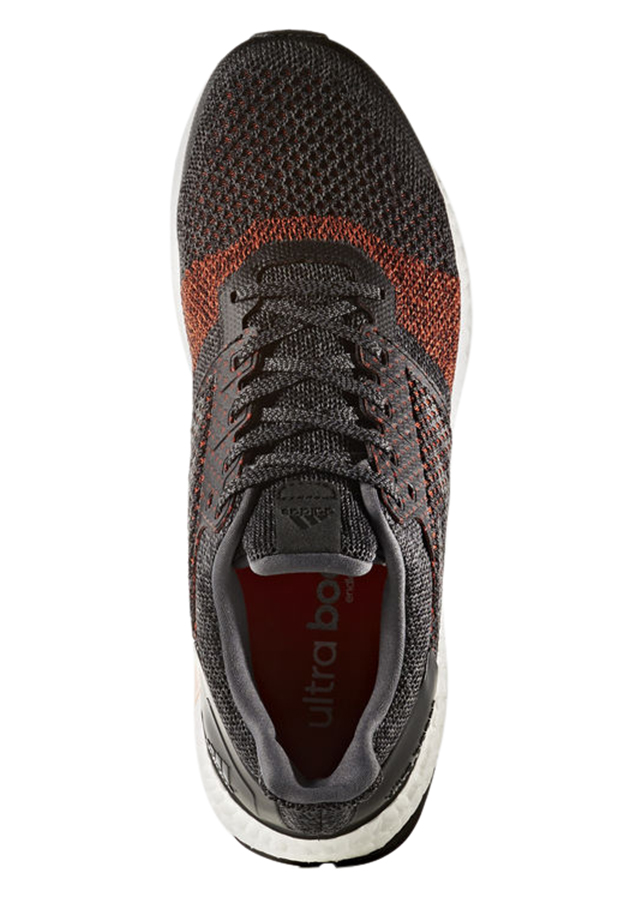Adidas: (278, 500, 341, 535)
